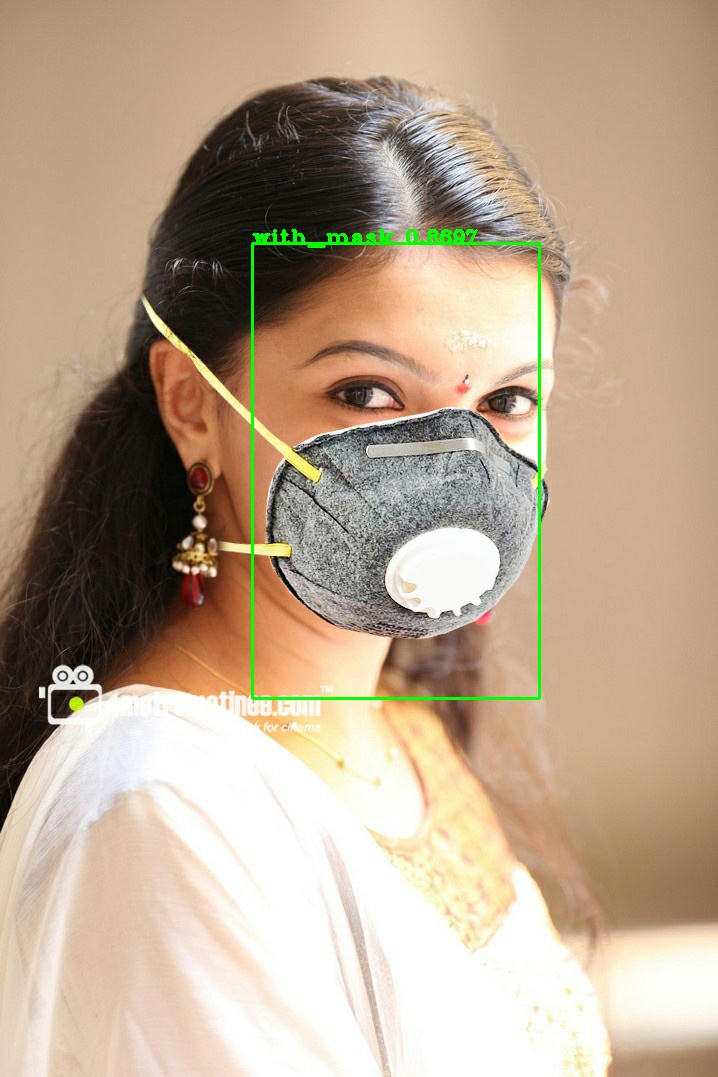with_mask: (114, 173, 595, 721)
